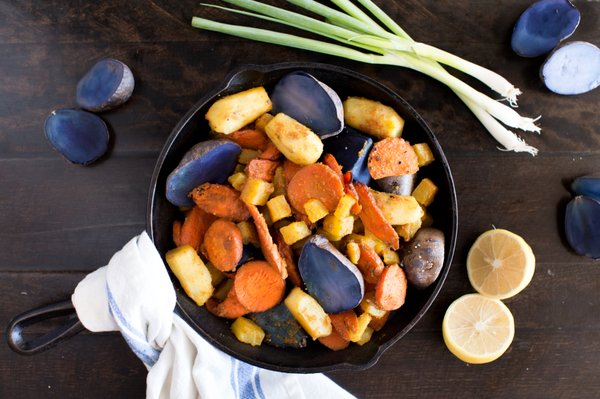salad: (270, 71, 344, 139)
sushi: (157, 62, 459, 377)
taco: (442, 294, 515, 366), (466, 228, 535, 301)
